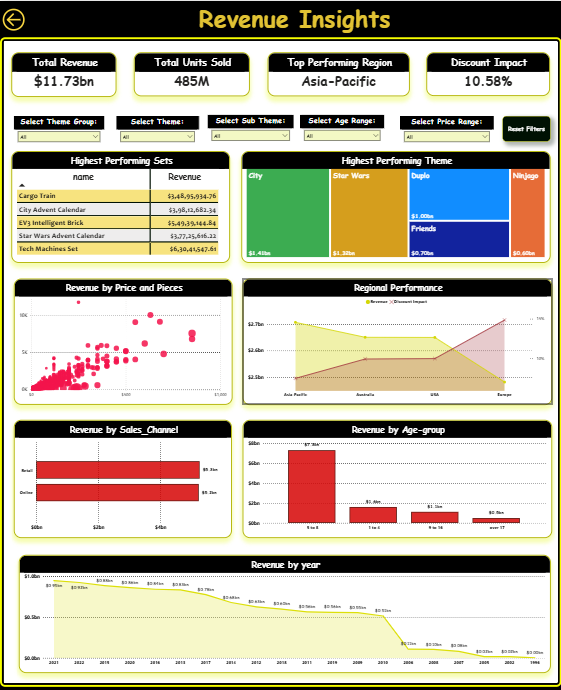

The dashboard page shown, as its layout file describes it:
{"tool":"powerbi","page":{"name":"revenue","canvas":[1406,1734],"ordinal":2},"visuals":[{"type":"shape","title":"gsddjk","box":[1.4,91.4,1404.3,1624.3],"z":0},{"type":"slicer","title":"Select Sub Theme:","fields":{"Values":["lego_sets (2).subtheme"]},"box":[518.5,284.6,215.4,89.2],"z":1000},{"type":"card","title":"Total Revenue","fields":{"Values":["sales.revenue"]},"box":[28.3,126.7,263.3,111.7],"z":2000},{"type":"card","title":"Discount Impact","fields":{"Values":["lego_sets (2).discount impact"]},"box":[1066.7,129.3,309.3,109.3],"z":3000},{"type":"card","title":"Top Performing Region ","fields":{"Values":["sales.best country"]},"box":[668,126.7,356,110.7],"z":4000},{"type":"slicer","title":"Select Theme:","fields":{"Values":["lego_sets (2).theme"]},"box":[290.8,286.2,206.2,89.2],"z":5000},{"type":"slicer","title":"Select Theme Group:","fields":{"Values":["lego_sets (2).themeGroup"]},"box":[33.8,286.2,226.2,89.2],"z":6000},{"type":"slicer","title":"Select Age Range:","fields":{"Values":["lego_sets (2).agerange"]},"box":[749.2,284.6,210.8,90.8],"z":7000},{"type":"card","title":"Total Units Sold","fields":{"Values":["Sum(sales.Units_Sold)"]},"box":[335,126.7,290,110],"z":8000},{"type":"actionButton","box":[1255.7,287.1,120,64.3],"z":9000},{"type":"shape","box":[497.1,0,535.7,81.4],"z":10000},{"type":"slicer","title":"Select Price  Range:","fields":{"Values":["lego_sets (2).price range"]},"box":[998.6,287.1,234.3,88.6],"z":11000},{"type":"areaChart","title":"Regional Performance","fields":{"Y":["sales.revenue with dicount"],"Category":["sales.Region"],"Y2":["lego_sets (2).Discount_Impact"]},"box":[605.7,692.9,774.3,317.1],"z":12000},{"type":"areaChart","fields":{"Y":["sales.revenue with dicount"],"Category":["lego_sets (2).year"]},"box":[47.1,1384.3,1330,295.7],"z":13000},{"type":"treemap","title":"Highest Performing Theme","fields":{"Values":["sales.revenue with dicount"],"Group":["lego_sets (2).theme"]},"box":[603.3,375,773.3,280],"z":14000},{"type":"scatterChart","title":"Revenue by Price and Pieces","fields":{"Size":["sales.revenue with dicount"],"X":["lego_sets (2).price"],"Y":["lego_sets (2).pieces"]},"box":[32.9,692.9,547.1,315.7],"z":15000},{"type":"tableEx","title":"Highest Performing Sets ","fields":{"Values":["lego_sets (2).name","sales.revenue with dicount"]},"box":[28.6,375.7,547.1,280],"z":16000},{"type":"actionButton","box":[0,13.3,113.3,68.3],"z":17000},{"type":"barChart","fields":{"Y":["sales.revenue with dicount"],"Category":["sales.Sales_Channel"]},"box":[34.3,1047.1,545.7,295.7],"z":18000},{"type":"clusteredColumnChart","fields":{"Y":["sales.revenue with dicount"],"Category":["lego_sets (2).agerange"]},"box":[605.7,1047.1,774.3,295.7],"z":19000}]}

Visuals, with their boxes in screenshot pixels (x1, y1, x2, y2), scaled from the page's 1406x1734 canvas onto the 561x690 screenshot:
"gsddjk" shape: <bbox>1, 36, 560, 683</bbox>
"Select Sub Theme:" slicer: <bbox>207, 113, 293, 149</bbox>
"Total Revenue" card: <bbox>11, 50, 116, 95</bbox>
"Discount Impact" card: <bbox>426, 51, 549, 95</bbox>
"Top Performing Region " card: <bbox>267, 50, 409, 94</bbox>
"Select Theme:" slicer: <bbox>116, 114, 198, 149</bbox>
"Select Theme Group:" slicer: <bbox>13, 114, 104, 149</bbox>
"Select Age Range:" slicer: <bbox>299, 113, 383, 149</bbox>
"Total Units Sold" card: <bbox>134, 50, 249, 94</bbox>
actionButton: <bbox>501, 114, 549, 140</bbox>
shape: <bbox>198, 0, 412, 32</bbox>
"Select Price  Range:" slicer: <bbox>398, 114, 492, 150</bbox>
"Regional Performance" areaChart: <bbox>242, 276, 551, 402</bbox>
areaChart - sales.revenue with dicount x lego_sets (2).year: <bbox>19, 551, 549, 669</bbox>
"Highest Performing Theme" treemap: <bbox>241, 149, 549, 261</bbox>
"Revenue by Price and Pieces" scatterChart: <bbox>13, 276, 231, 401</bbox>
"Highest Performing Sets " tableEx: <bbox>11, 150, 230, 261</bbox>
actionButton: <bbox>0, 5, 45, 32</bbox>
barChart - sales.revenue with dicount x sales.Sales_Channel: <bbox>14, 417, 231, 534</bbox>
clusteredColumnChart - sales.revenue with dicount x lego_sets (2).agerange: <bbox>242, 417, 551, 534</bbox>
